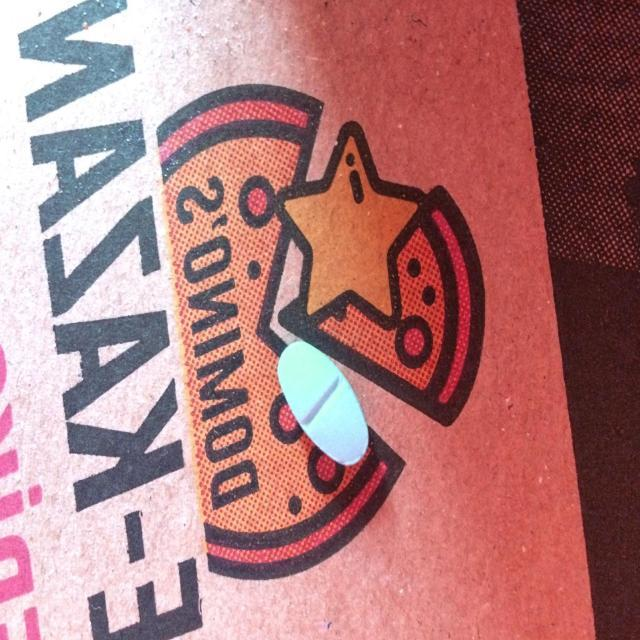pill: (271, 337, 376, 468)
